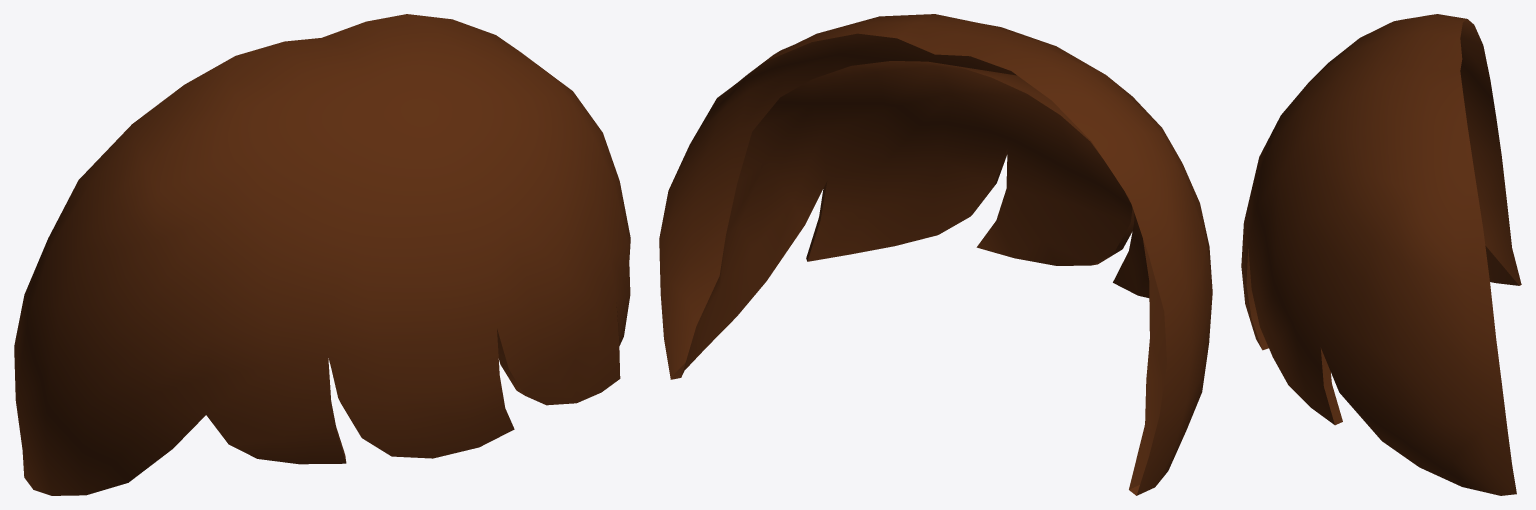
The picture shows the model from 3 angles, left to right: view 1: azimuth 30°, elevation 25°; view 2: azimuth 150°, elevation 25°; view 3: azimuth 270°, elevation 25°; orthographic projection. The views are drawn at different scales.
Parts seen in each view (by area): view 1: Mesh_HairF; view 2: Mesh_HairF; view 3: Mesh_HairF.
Boxes of the visible parts, x1=… form: Mesh_HairF: x1=14, y1=14, x2=630, y2=495; Mesh_HairF: x1=659, y1=14, x2=1212, y2=495; Mesh_HairF: x1=1241, y1=14, x2=1521, y2=495.
Bounding box in the file's own units: 60.67 × 40.89 × 30.83.
